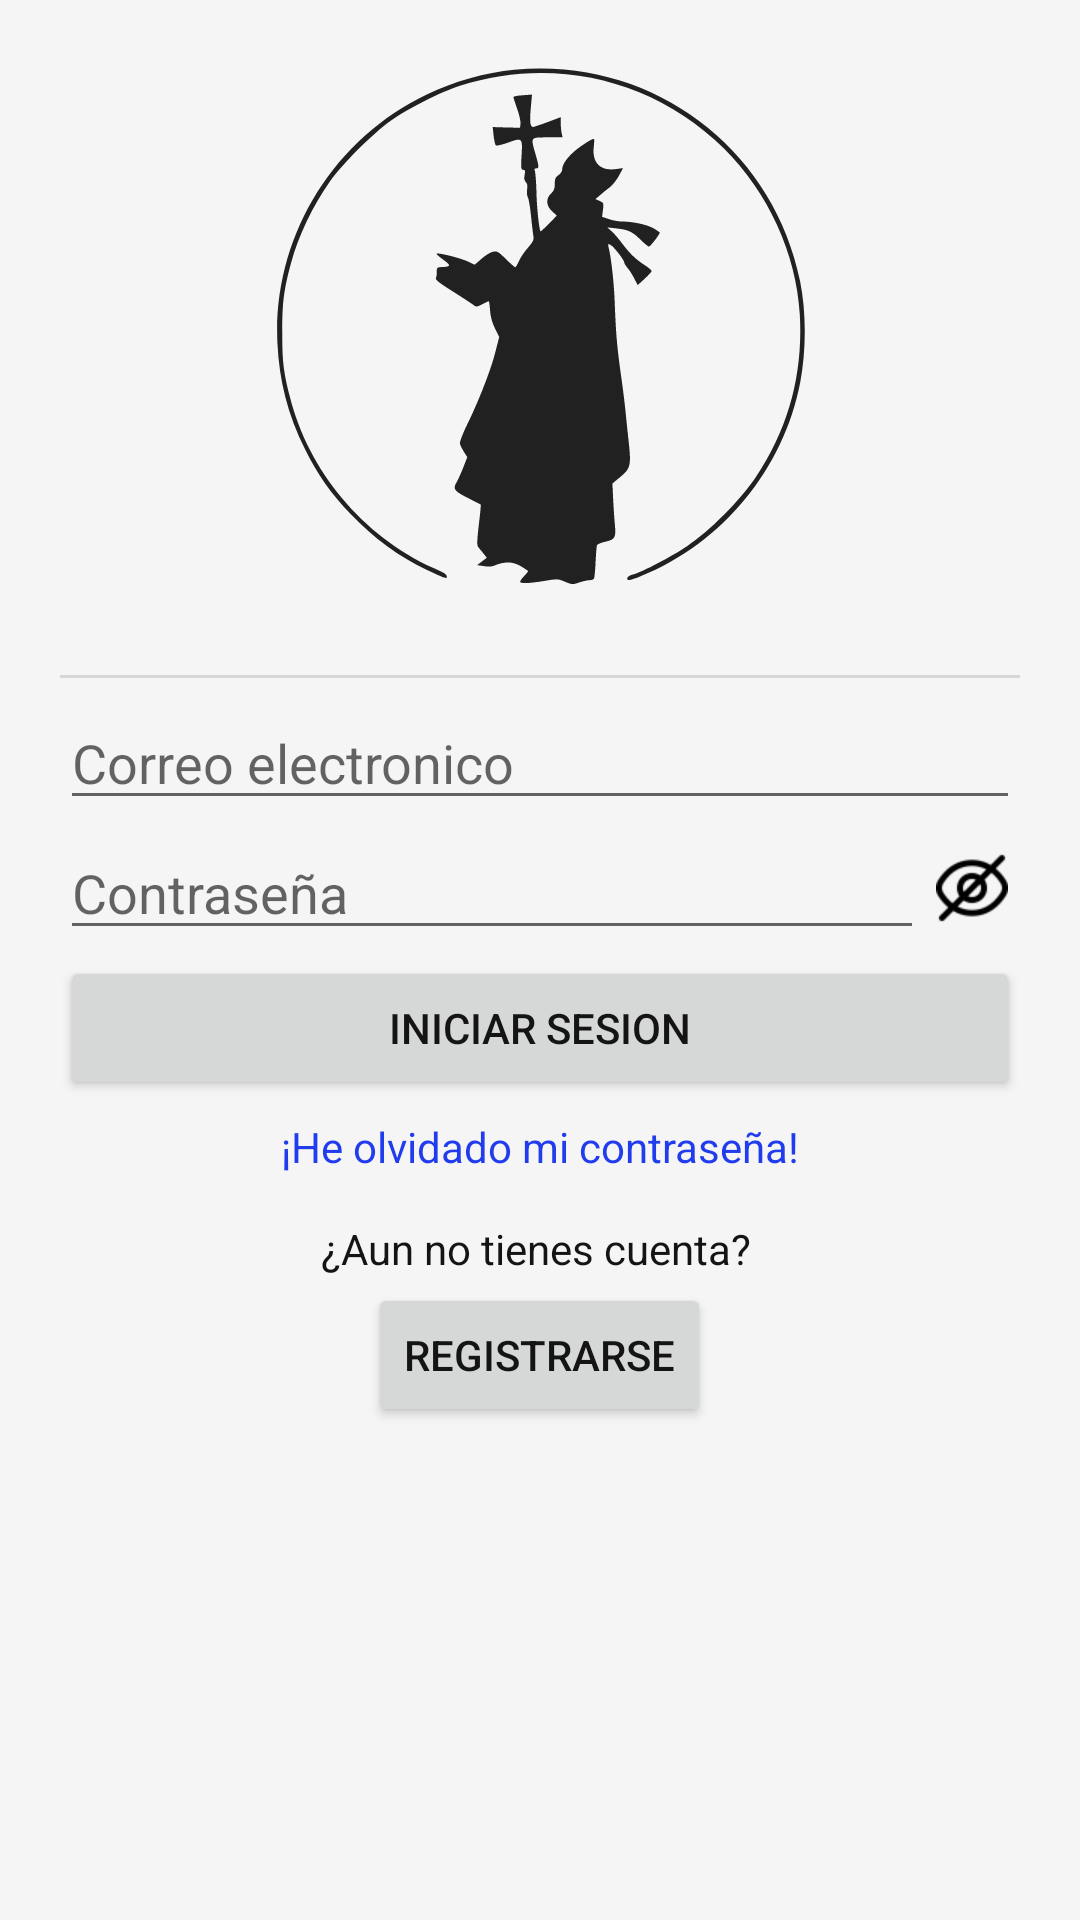

Named icons in this screenshot (1080×1920) and their bounding boxes, (x1=x1, y1=y1, x2=x2, y2=y2):
eye crossed: (x1=936, y1=854, x2=1008, y2=922)
